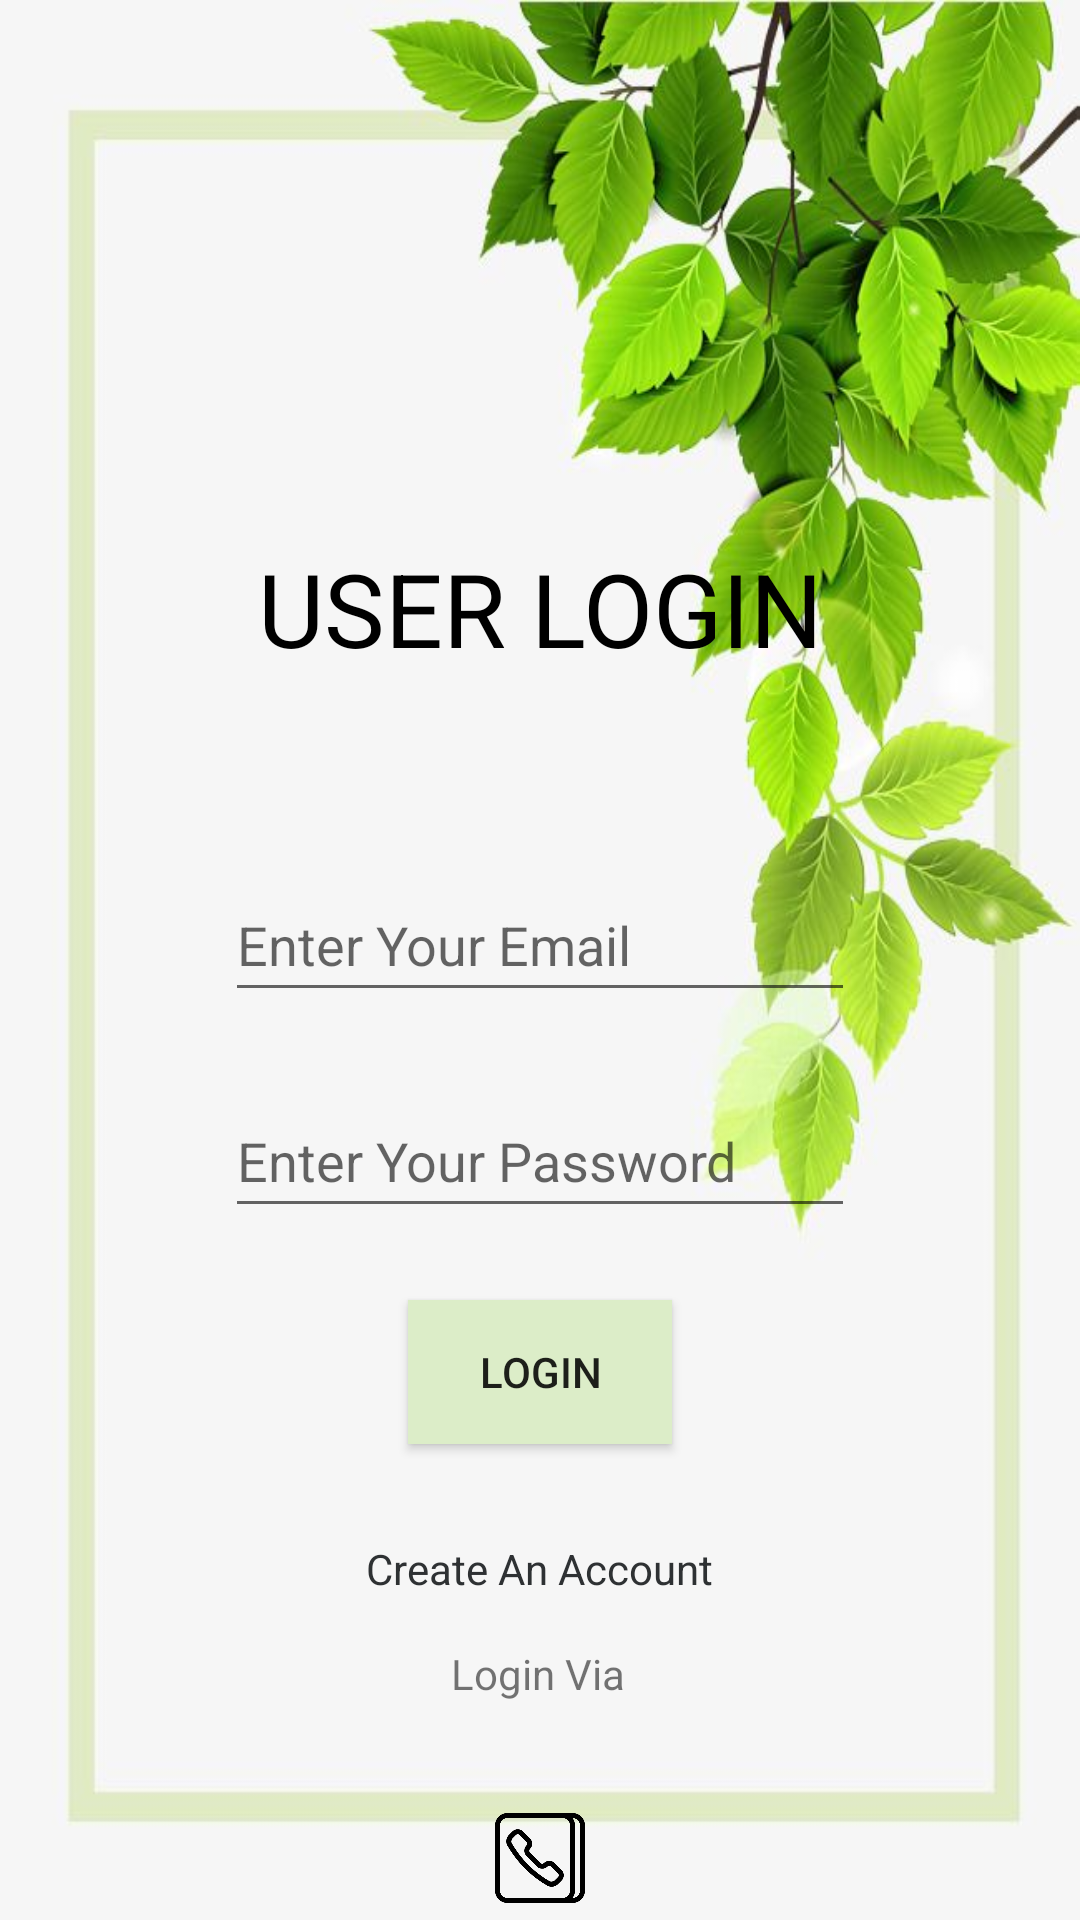

Icons on this 1080w x 1920h Android screen, each with the point to tap as [x,y]:
contact: [540,1858]
